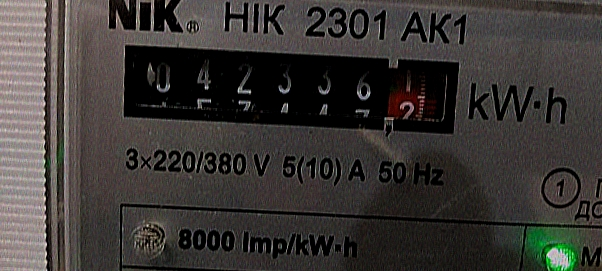0: (154, 58, 176, 95)
1: (402, 65, 417, 95)
2: (235, 59, 257, 97), (398, 99, 418, 121)
3: (314, 60, 336, 98), (276, 58, 297, 97)
4: (195, 54, 216, 92)
6: (353, 66, 377, 102)
screen: (114, 31, 471, 146)
